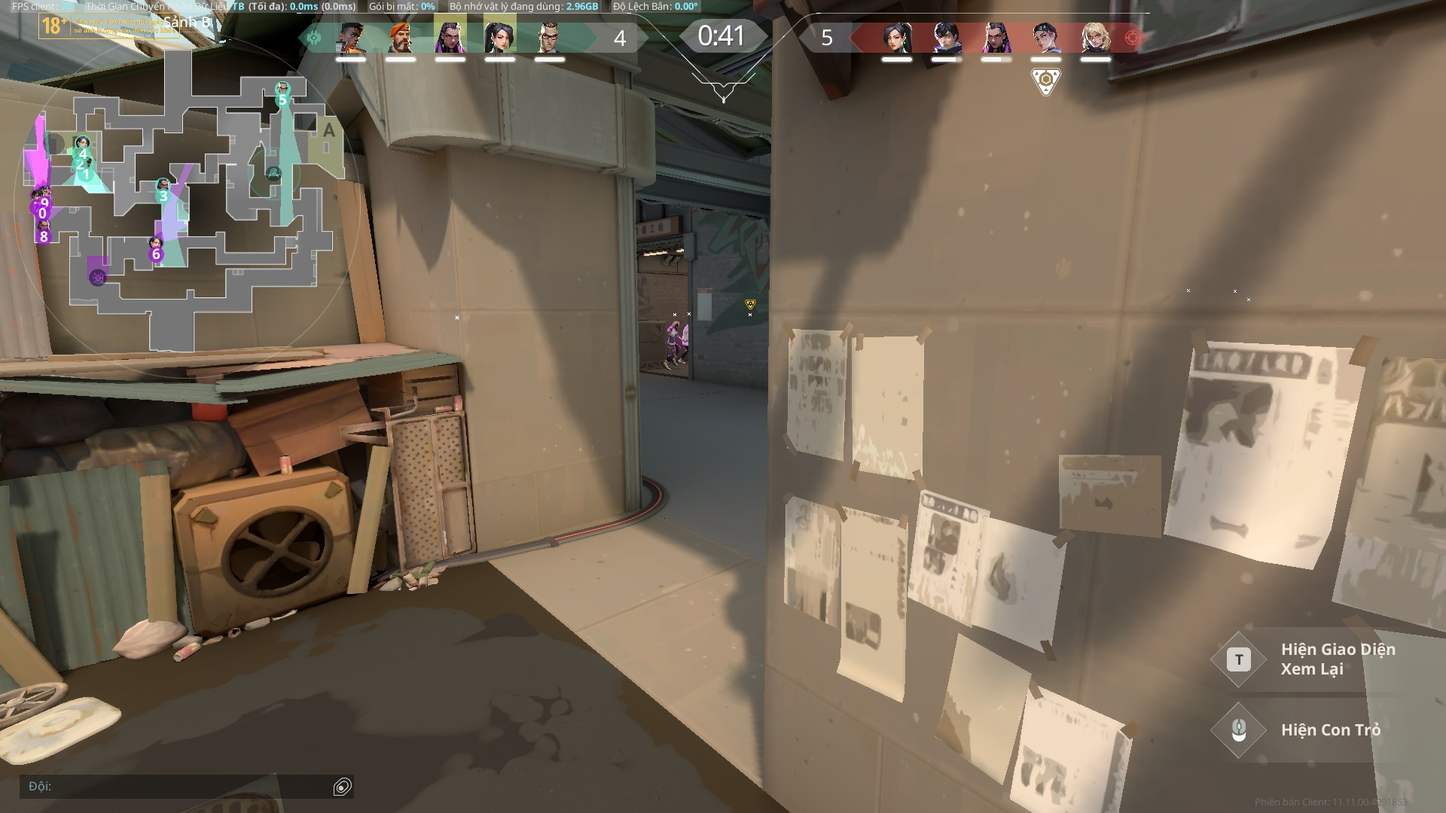body: (668, 326, 676, 345), (683, 325, 688, 341)
head: (672, 320, 679, 328)
